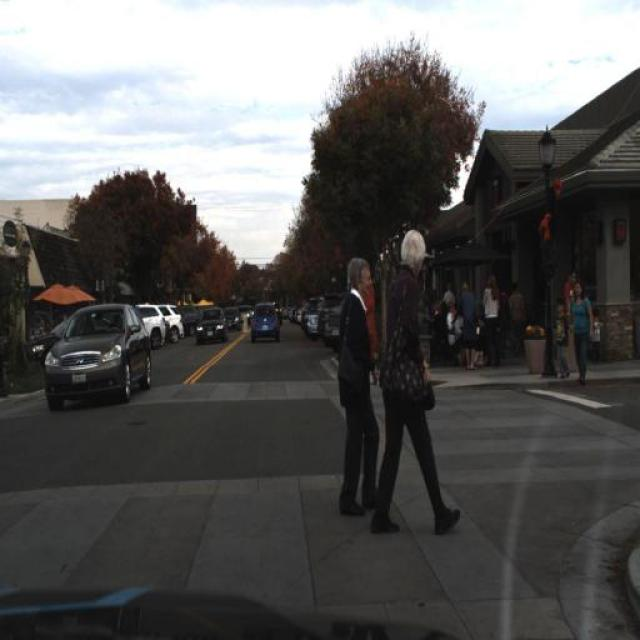car: (41, 298, 150, 411), (129, 301, 165, 357), (248, 298, 282, 348), (321, 293, 344, 357), (195, 306, 227, 345)
trafficLight: (372, 217, 461, 564), (336, 253, 380, 546), (568, 280, 594, 390), (480, 272, 504, 369), (457, 282, 479, 372), (550, 295, 572, 380), (508, 280, 527, 359), (445, 300, 465, 356)
